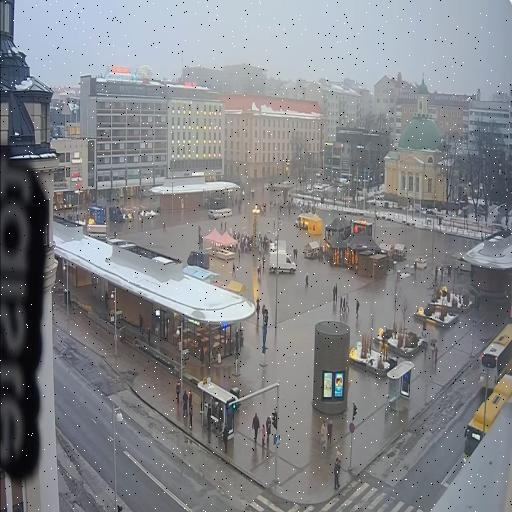Bus: (464, 375, 512, 461), (479, 323, 512, 391)
